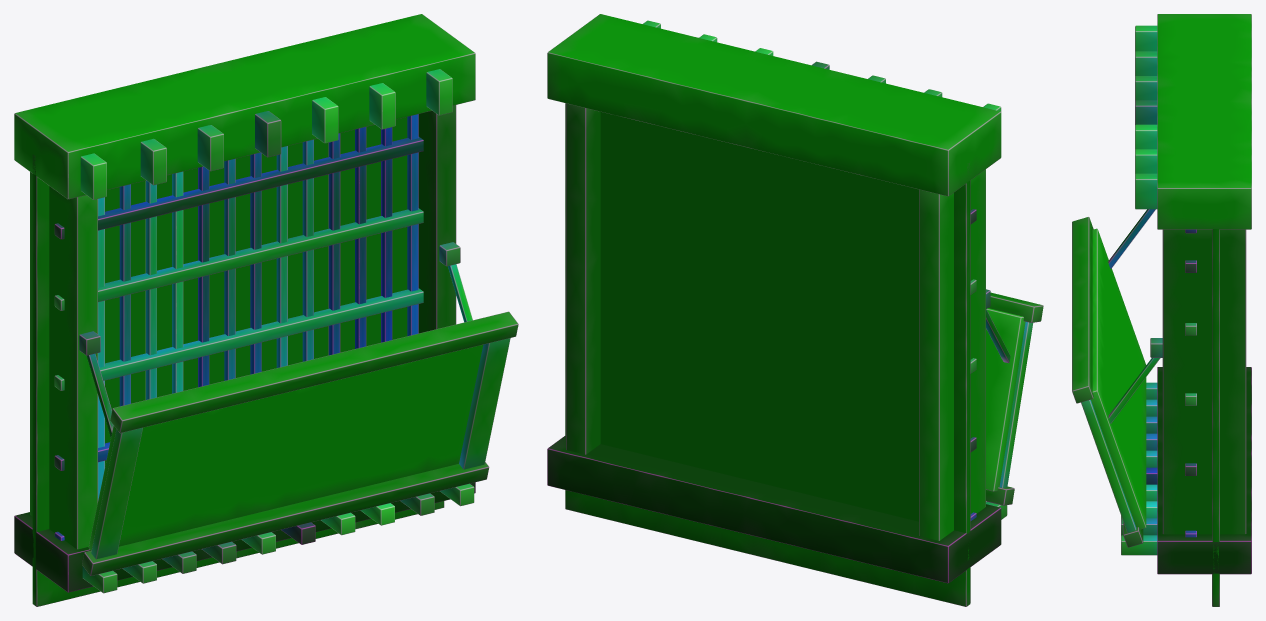
File: window_400x350_07.fbx
3 views of the same model, side by side, from view 1: azimuth 30°, elevation 25°; view 2: azimuth 150°, elevation 25°; view 3: azimuth 270°, elevation 25° (orthographic). The views are drawn at different scales.
Parts seen in each view (by area): view 1: window_400x350_07; view 2: window_400x350_07; view 3: window_400x350_07.
Part boxes in pixels (x1,y1,x2,y2): window_400x350_07: (14, 14, 518, 606); window_400x350_07: (547, 14, 1043, 606); window_400x350_07: (1072, 14, 1251, 606).
Bounding box in the file's own units: 2.17 × 2.43 × 0.943.
